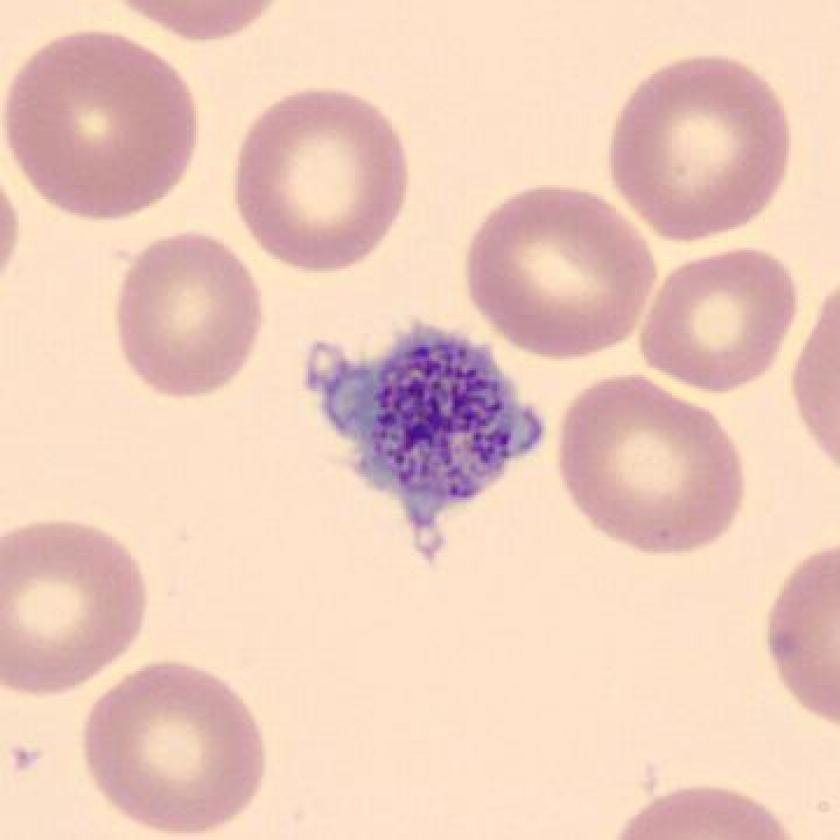platelets: (297, 318, 540, 556)
